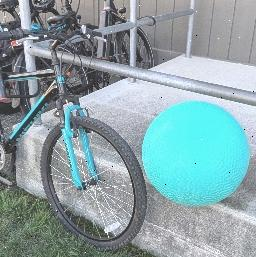algae: (139, 96, 249, 204)
